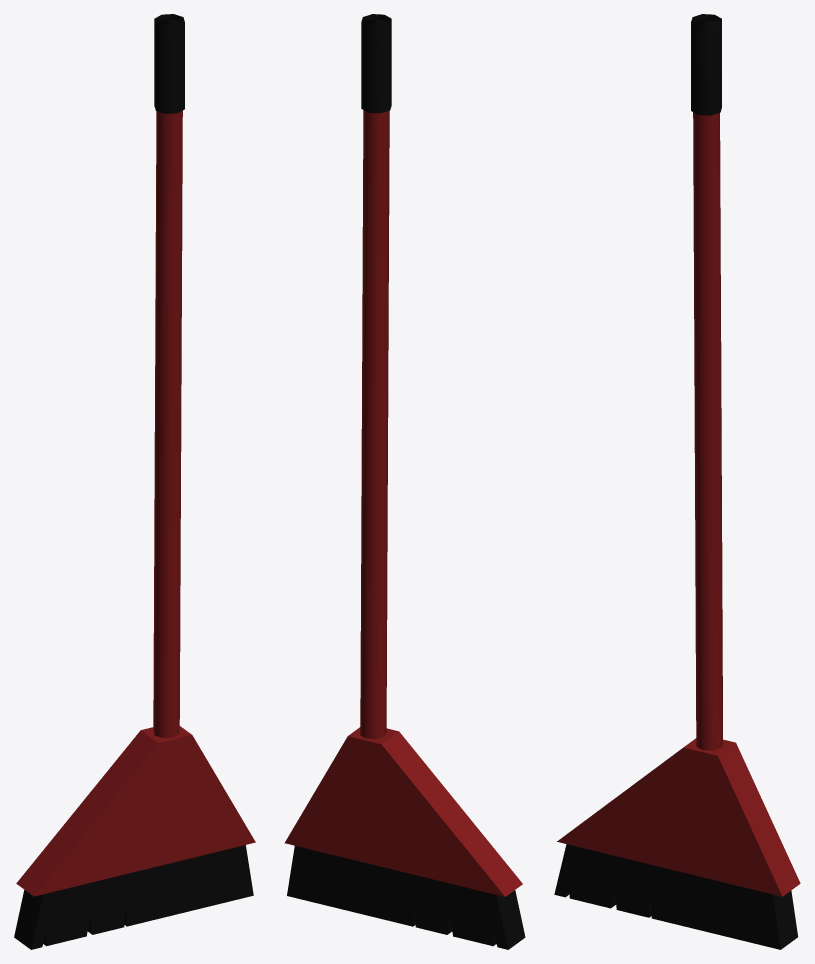
Rendered from broom.gltf.
3 renders of one model, left to right at view 1: azimuth 30°, elevation 25°; view 2: azimuth 150°, elevation 25°; view 3: azimuth 330°, elevation 25°, orthographic. The views are drawn at different scales.
Parts seen in each view (by area): view 1: broom; view 2: broom; view 3: broom.
Part boxes in pixels (x1=…): broom: x1=14, y1=14, x2=255, y2=949; broom: x1=284, y1=14, x2=525, y2=949; broom: x1=554, y1=14, x2=800, y2=949.
Size of the model in its own units: 0.4486 by 1.7 by 0.069.
